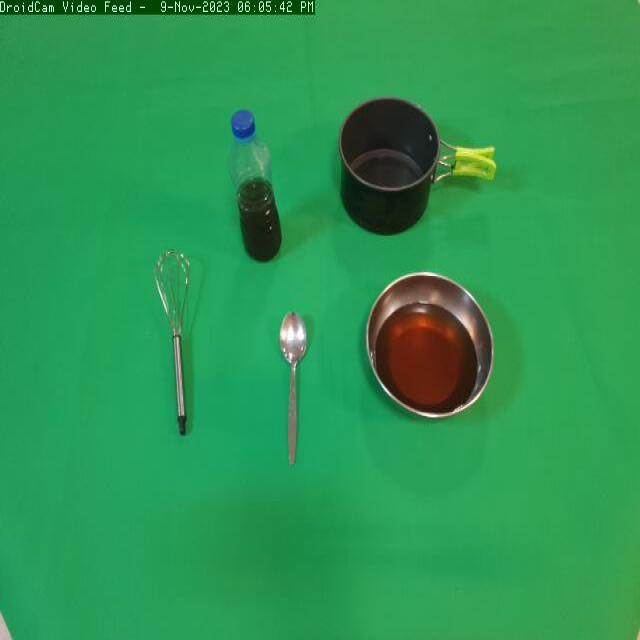fullbottle: (226, 105, 291, 276)
fullbowl: (358, 266, 508, 432)
pot: (335, 91, 504, 254)
spoon: (274, 306, 320, 475)
whisk: (150, 245, 216, 450)
